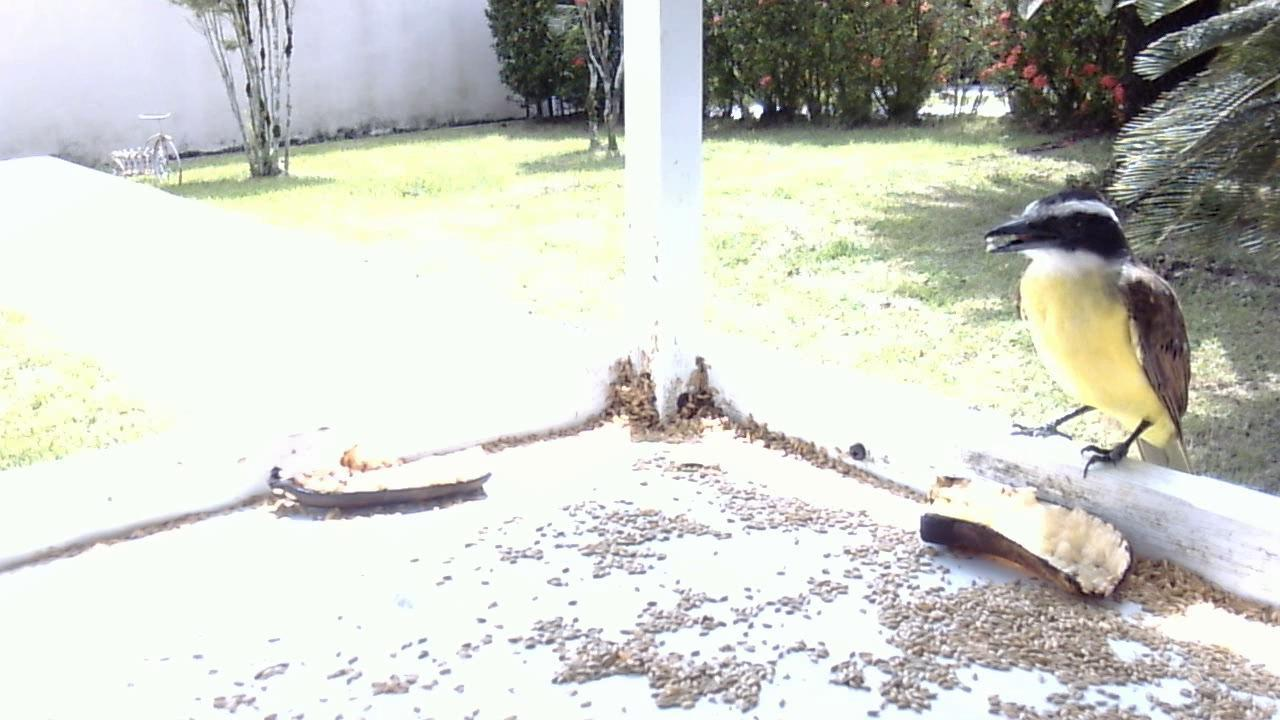bem_te_vi: (977, 185, 1199, 489)
